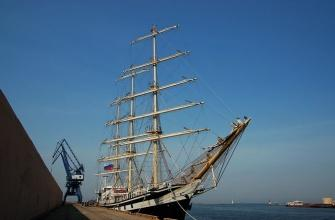fanchuan: (97, 10, 253, 209)
